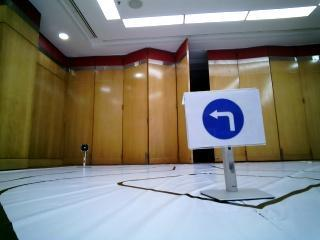left: (187, 93, 264, 145)
